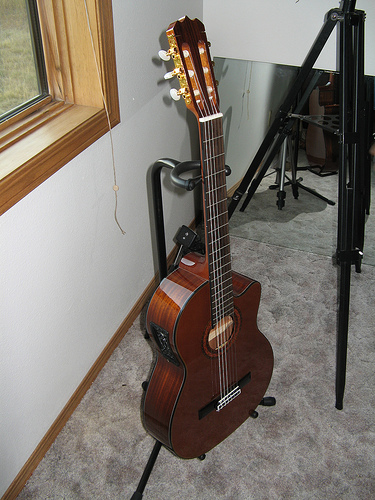guitar: (139, 10, 276, 461)
